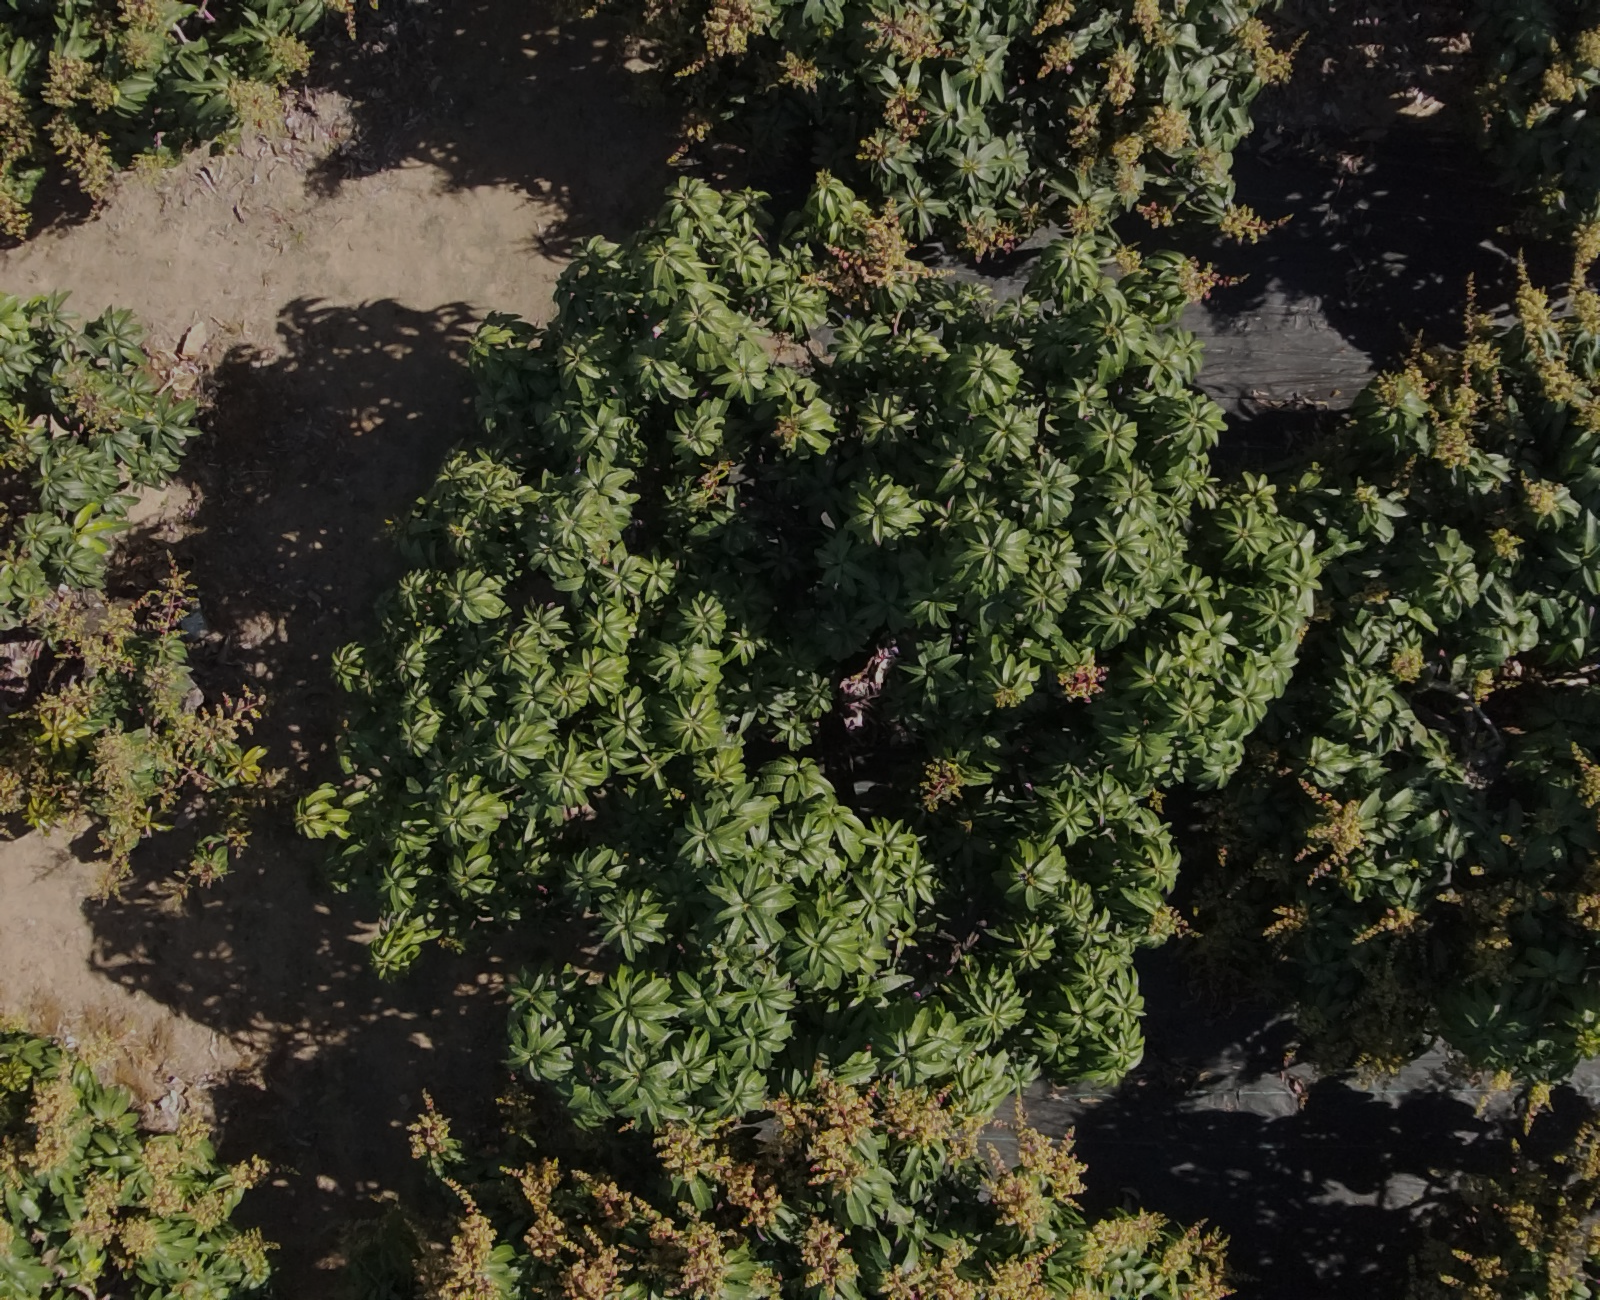flowers: (0, 569, 261, 879), (501, 1159, 731, 1300), (768, 1065, 980, 1191), (72, 1112, 235, 1259), (1368, 318, 1504, 468), (1497, 1112, 1600, 1300), (1516, 256, 1600, 432), (653, 1124, 781, 1228), (990, 1102, 1087, 1239), (1110, 105, 1231, 206), (815, 206, 930, 306), (639, 1, 777, 76), (882, 1242, 1055, 1300), (1439, 868, 1522, 983), (1, 1057, 80, 1174), (1352, 958, 1434, 1067), (1526, 23, 1600, 127), (438, 1181, 500, 1300), (1296, 777, 1364, 885), (48, 114, 118, 202), (1157, 1222, 1231, 1300), (1, 74, 36, 237), (865, 1, 953, 62), (1081, 1210, 1165, 1273), (92, 1, 168, 68), (1233, 16, 1304, 84), (42, 52, 121, 111), (801, 1214, 857, 1296), (1569, 210, 1600, 332), (407, 1092, 460, 1159), (226, 76, 283, 135), (222, 1228, 277, 1288), (1439, 1250, 1504, 1300), (1562, 849, 1600, 931), (1178, 257, 1244, 302), (959, 214, 1019, 261), (1352, 906, 1420, 944), (1101, 42, 1138, 110), (1571, 742, 1600, 826), (919, 757, 966, 811), (884, 88, 926, 143), (175, 1256, 228, 1300), (1144, 903, 1198, 944), (1219, 203, 1274, 243), (1067, 105, 1100, 170), (1568, 1112, 1600, 1179), (1263, 905, 1308, 951), (265, 32, 313, 74), (1522, 475, 1568, 517), (1057, 661, 1106, 700), (1132, 1, 1175, 45), (231, 1155, 285, 1189), (1037, 36, 1079, 78), (777, 50, 821, 90), (131, 143, 175, 183), (1523, 1082, 1554, 1133), (1298, 600, 1333, 642), (1032, 1, 1076, 36), (1390, 643, 1425, 682), (322, 1, 356, 38), (1489, 528, 1524, 561), (1067, 203, 1102, 233), (751, 1264, 781, 1300), (1136, 202, 1173, 228), (1113, 245, 1142, 275), (1471, 669, 1493, 703), (1069, 1284, 1105, 1300), (1, 1216, 15, 1256)
